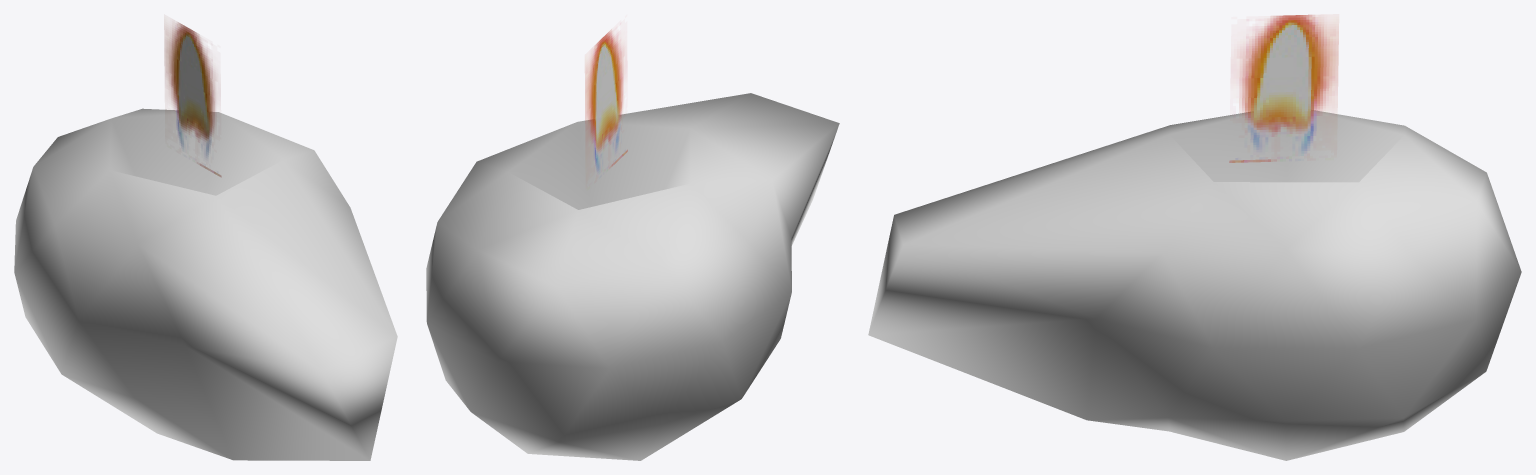
The model's file is lampbronze.glb.
3 renders of one model, left to right at view 1: azimuth 30°, elevation 25°; view 2: azimuth 150°, elevation 25°; view 3: azimuth 270°, elevation 25°, orthographic. The views are drawn at different scales.
Visible parts, largest first — view 1: lamp, flame.png; view 2: lamp, flame.png; view 3: lamp, flame.png.
Part boxes in pixels (x1,y1,x2,y2): lamp: [14, 108, 397, 460]; flame.png: [164, 22, 221, 176]; lamp: [426, 93, 839, 460]; flame.png: [585, 30, 627, 170]; lamp: [868, 110, 1521, 460]; flame.png: [1229, 15, 1338, 162].
Size of the model in its own units: 0.9499 by 1.18 by 1.71.
1 material, 1 textured.
